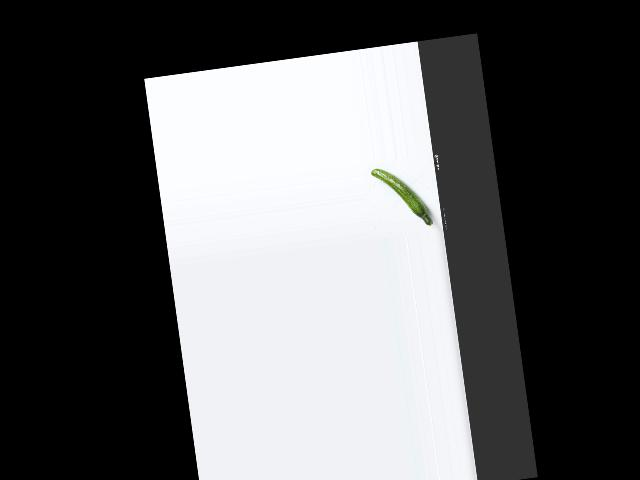cucumber: (371, 162, 433, 233)
